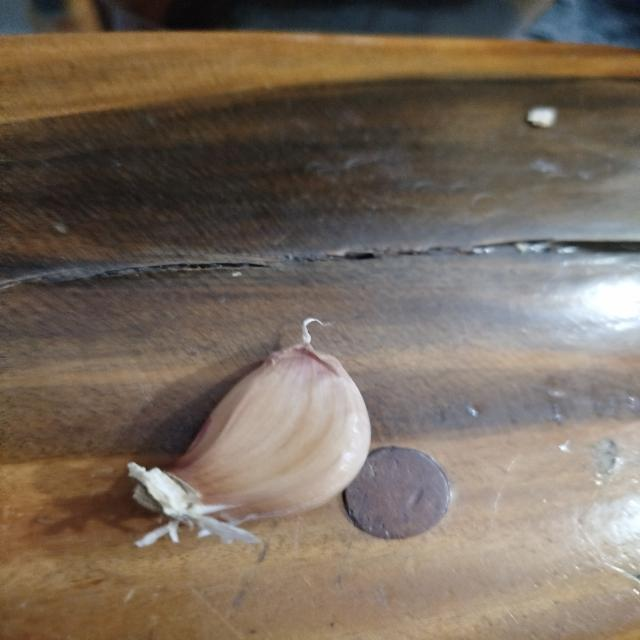garlic: (126, 318, 372, 548)
